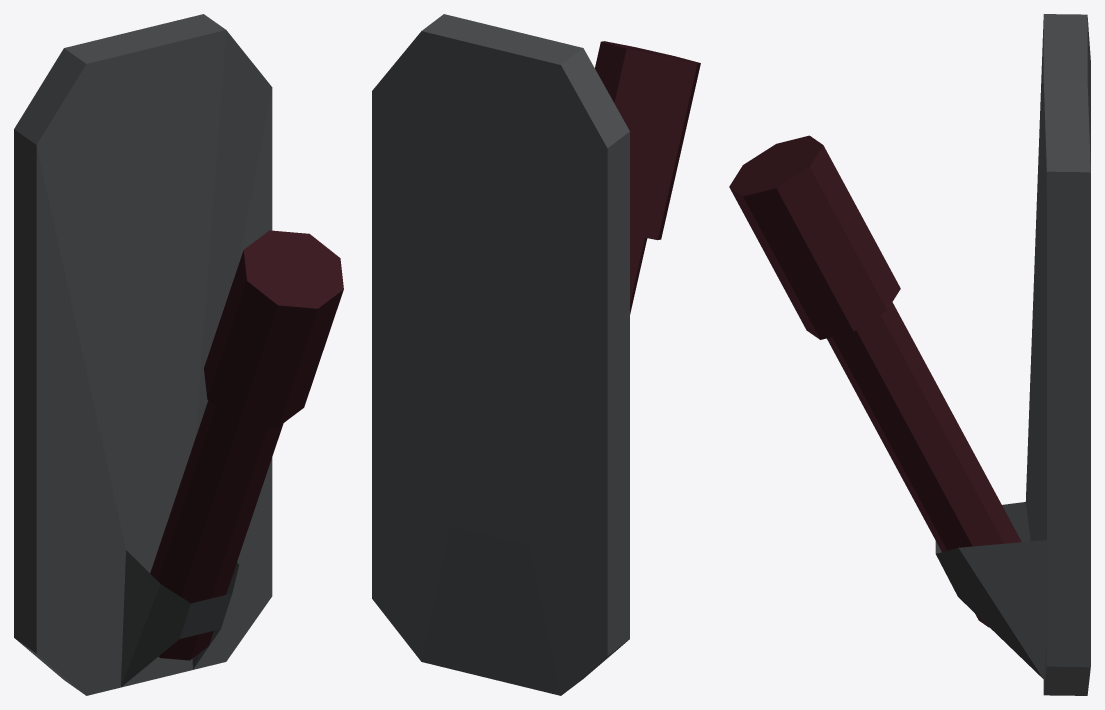
File: Torch Sconce.gltf
The picture shows the model from 3 angles, left to right: view 1: azimuth 30°, elevation 25°; view 2: azimuth 150°, elevation 25°; view 3: azimuth 270°, elevation 25°; orthographic projection. The views are drawn at different scales.
Parts seen in each view (by area): view 1: Torch; view 2: Torch; view 3: Torch.
Part boxes in pixels (<box>): Torch: <box>14,14,343,695</box>; Torch: <box>372,14,700,695</box>; Torch: <box>729,14,1090,695</box>.
Size of the model in its own units: 0.2925 by 0.7495 by 0.3991.
